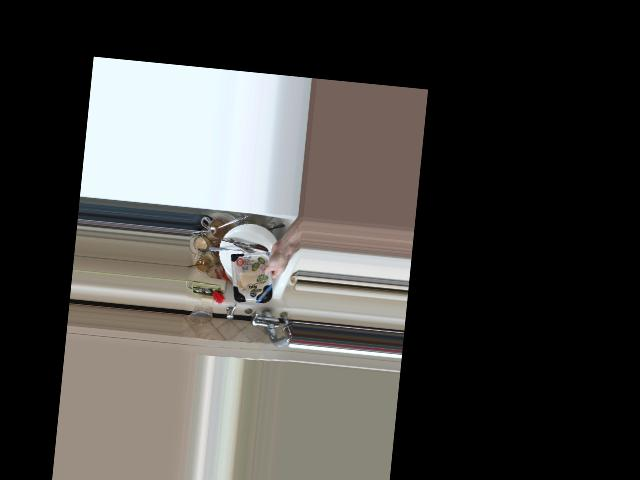cheese: (227, 240, 290, 310)
